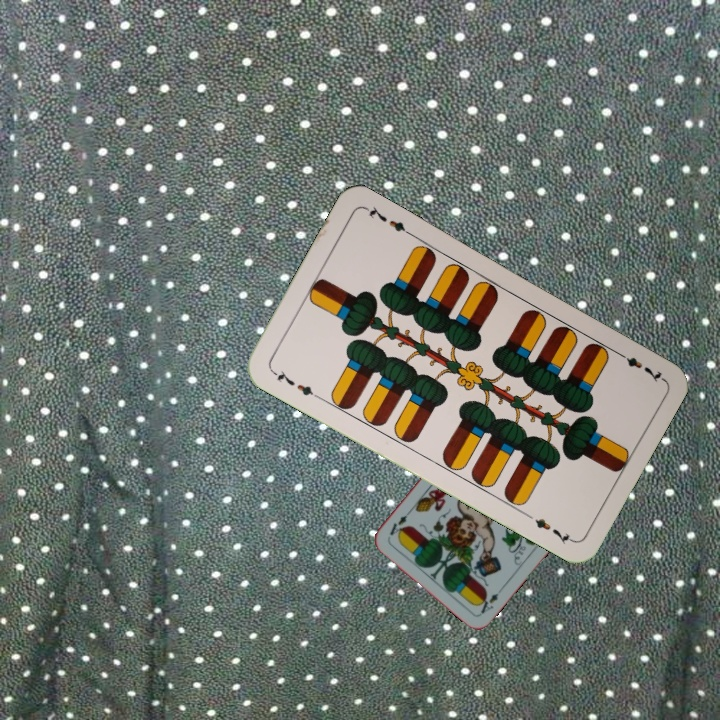E7: (612, 347, 665, 385), (268, 366, 322, 401)
EA: (474, 582, 506, 616)
